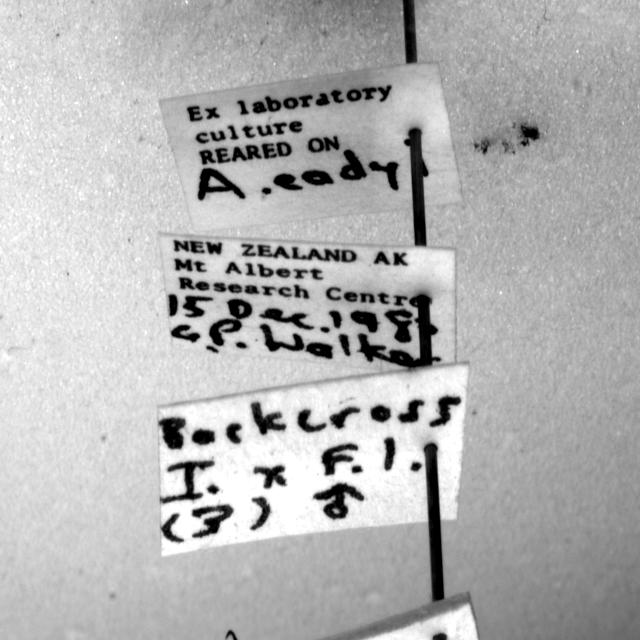hand_label: (159, 364, 469, 555)
mixed_label: (160, 62, 462, 231), (160, 234, 456, 371)
